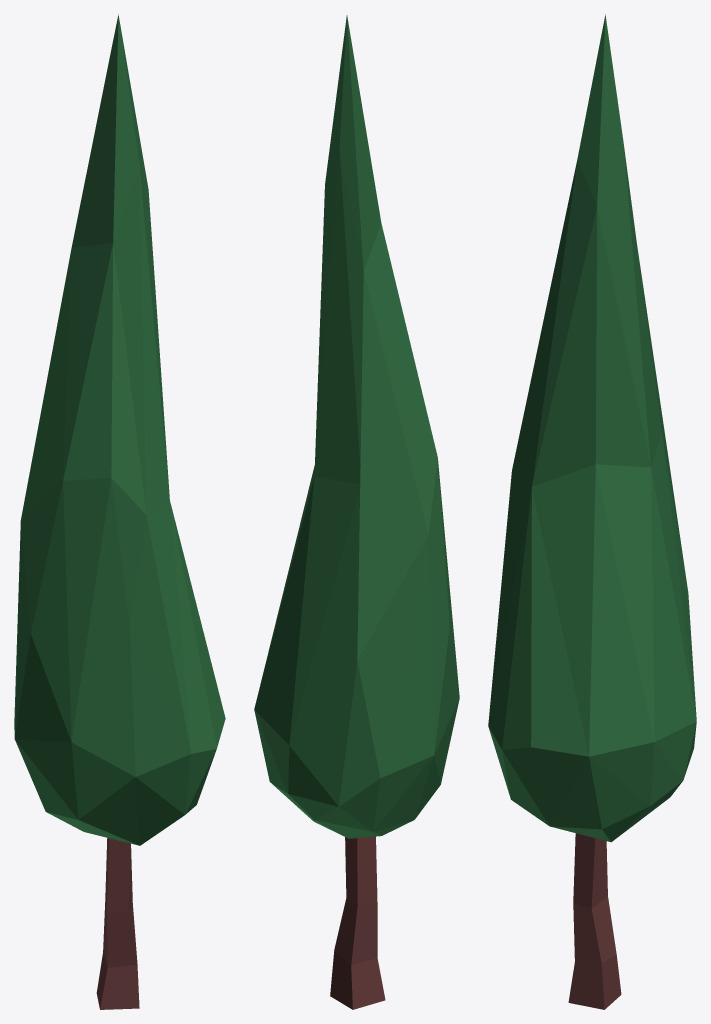
Rendered from Flat_Tree_Cypress_medium.glb.
3 views of the same model, side by side, from view 1: azimuth 30°, elevation 25°; view 2: azimuth 150°, elevation 25°; view 3: azimuth 270°, elevation 25° (orthographic).
Parts seen in each view (by area): view 1: Cypress middle f; view 2: Cypress middle f; view 3: Cypress middle f.
Boxes of the visible parts, x1,y1,x2,y2 form: Cypress middle f: [14, 14, 225, 1009]; Cypress middle f: [254, 15, 459, 1009]; Cypress middle f: [488, 14, 696, 1009].
Size of the model in its own units: 2.45 by 12.75 by 2.44.
